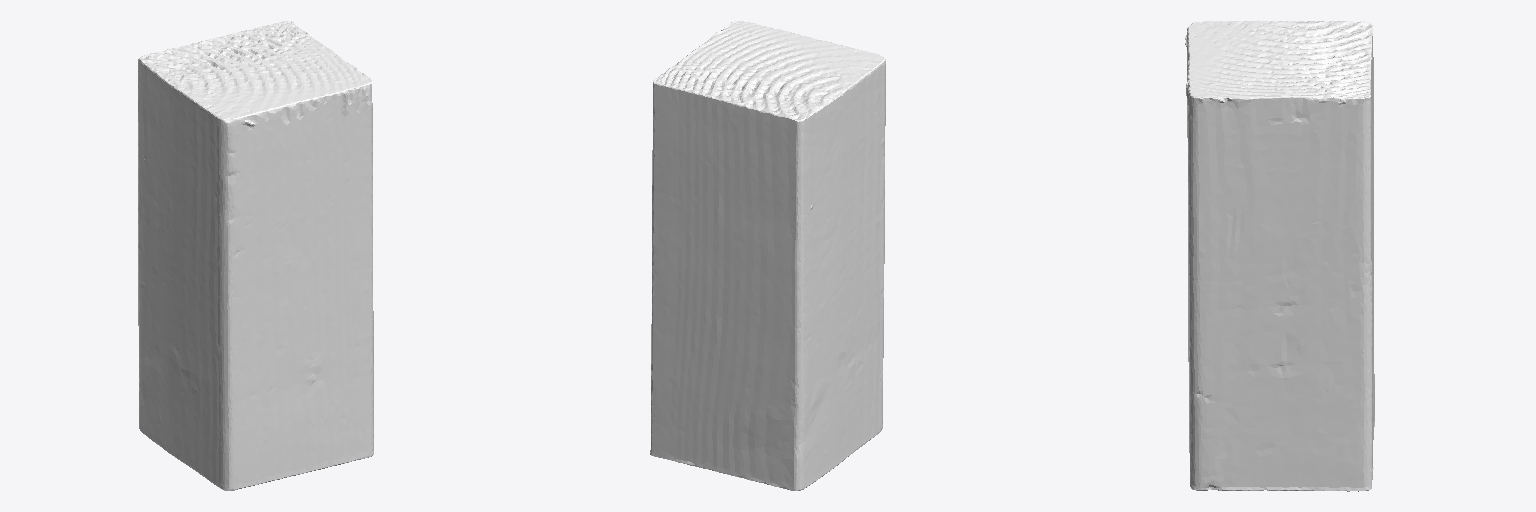
URDF robot description (fork):
<robot name="fork">
	<link name="base_link">
		<visual>
			<origin xyz="-0.008499561933269988 0.021533112701872234 -0.00670927433639299" rpy="0.0 0.0 0.0" />
			<geometry>
				<mesh filename="030_fork/google_16k/textured.obj" scale="1 1 1" />
			</geometry>
			<material name="texture">
				<color rgba="1.0 1.0 1.0 1.0" />
			</material>
		</visual>
		<collision>
			<origin xyz="-0.008499561933269988 0.021533112701872234 -0.00670927433639299" rpy="0.0 0.0 0.0" />
			<geometry>
				<mesh filename="030_fork/google_16k/textured_vhacd.obj" scale="1 1 1" />
			</geometry>
		</collision>
		<inertial>
			<mass value="0.034" />
			<inertia ixx="1e-3" ixy="0.0" ixz="0.0" iyy="1e-3" iyz="0.0" izz="1e-3" />
		</inertial>
	</link>
</robot>

--- What the picture shows (computed from the rendered views, not written in the file) ---
The picture shows the robot from 3 angles, left to right: view 1: azimuth 30°, elevation 25°; view 2: azimuth 150°, elevation 25°; view 3: azimuth 270°, elevation 25°; orthographic projection.
Robot: fork — 1 links, 0 joints (none); root link base_link; default pose: all joints at 0.
Links seen in each view (by area): view 1: base_link; view 2: base_link; view 3: base_link.
Boxes of the visible links, x1=… form: base_link: x1=138, y1=21, x2=373, y2=490; base_link: x1=650, y1=21, x2=885, y2=490; base_link: x1=1185, y1=20, x2=1374, y2=491.
Size in the robot's own frame: 0.0906 by 0.0899 by 0.206 metres.
1 mesh visuals loaded from 1 distinct referenced files (1 OBJ).